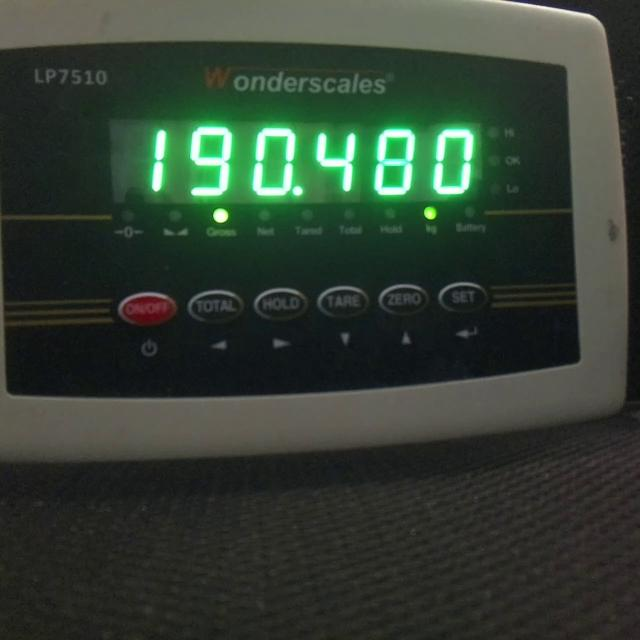.: (292, 185, 303, 196)
0: (252, 127, 296, 195), (433, 128, 475, 195)
1: (146, 124, 172, 198)
4: (316, 131, 356, 194)
8: (373, 128, 415, 195)
9: (189, 126, 233, 197)
